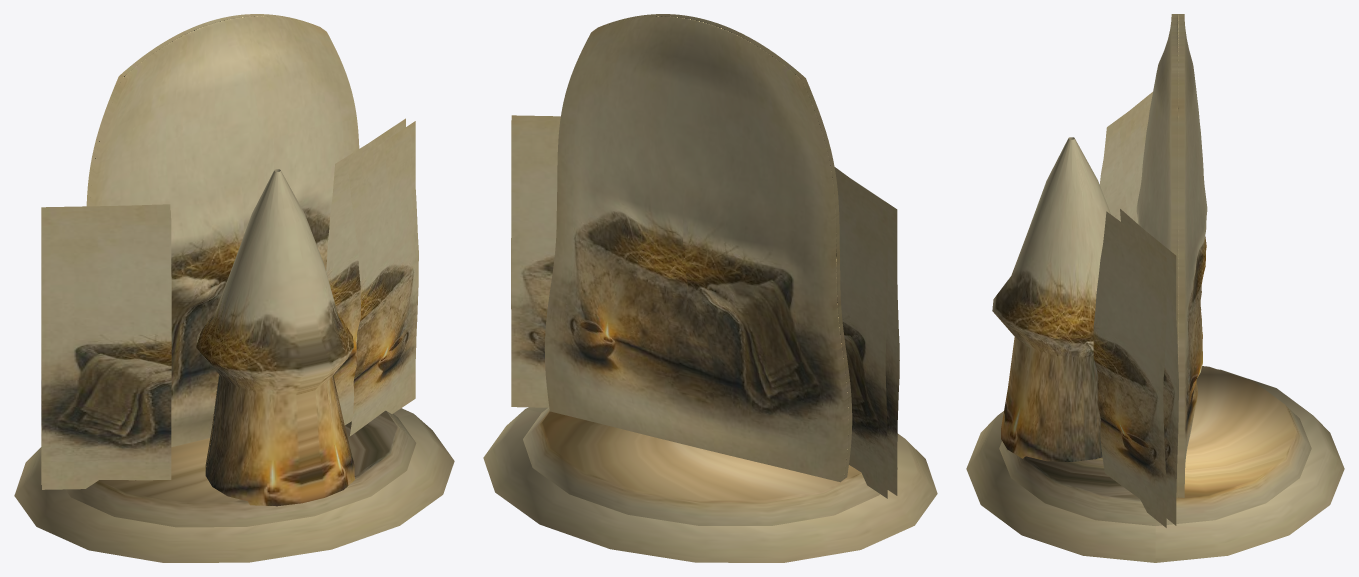
Rendered from good-news-of-great-joy-5.glb.
3 renders of one model, left to right at view 1: azimuth 30°, elevation 25°; view 2: azimuth 150°, elevation 25°; view 3: azimuth 270°, elevation 25°, orthographic. The views are drawn at different scales.
Parts seen in each view (by area): view 1: PaintingSculptureMonument; view 2: PaintingSculptureMonument; view 3: PaintingSculptureMonument.
Boxes of the visible parts, bbox=[...] form: PaintingSculptureMonument: bbox=[14, 14, 454, 562]; PaintingSculptureMonument: bbox=[483, 14, 937, 562]; PaintingSculptureMonument: bbox=[966, 14, 1344, 562].
Bounding box in the file's own units: 2.76 × 2.99 × 2.35.
Materials: 1 (1 with a texture image).
